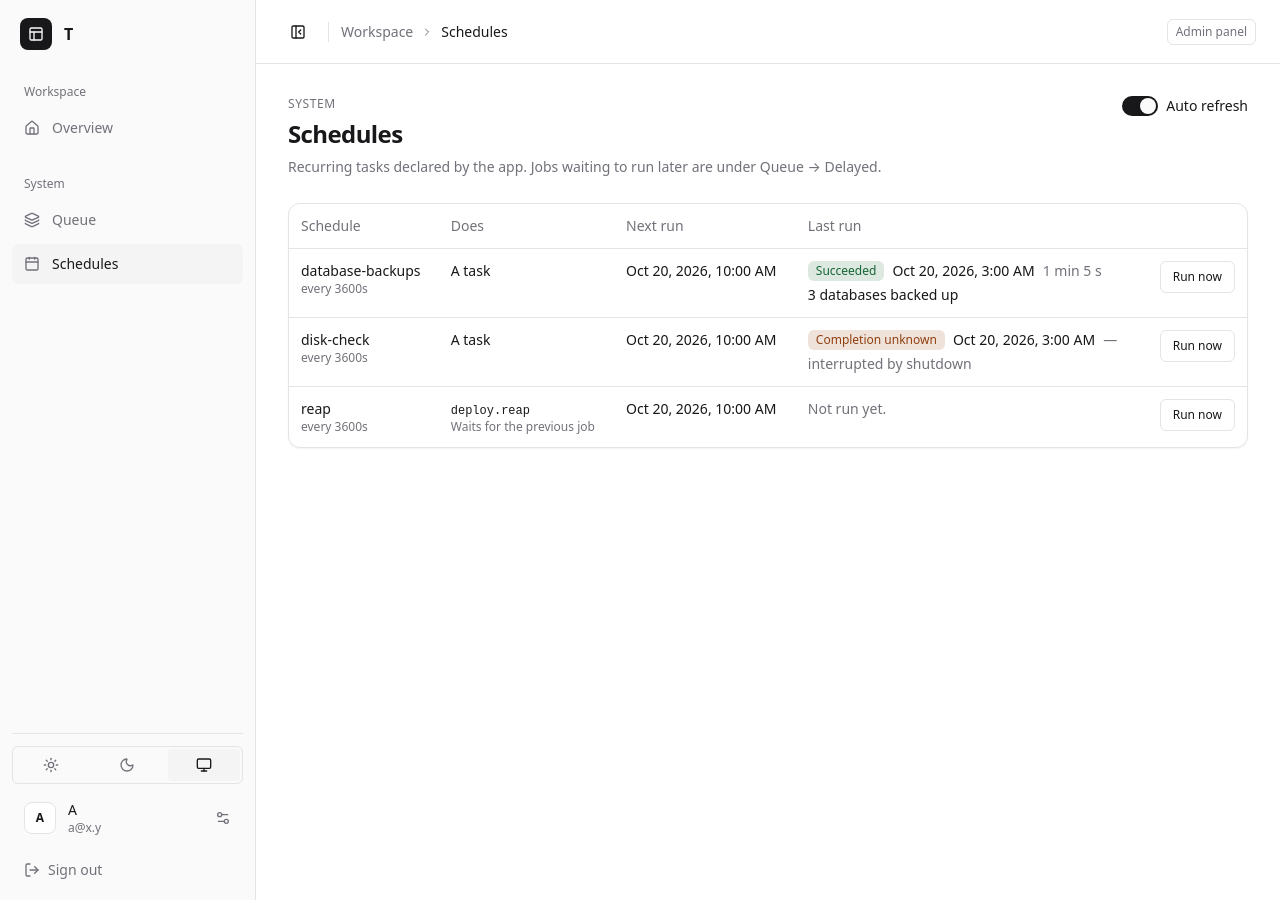
Test: Schedules › opens the runs of a schedule
Click the button "disk-check" at (335, 340), box [301,330,369,350]
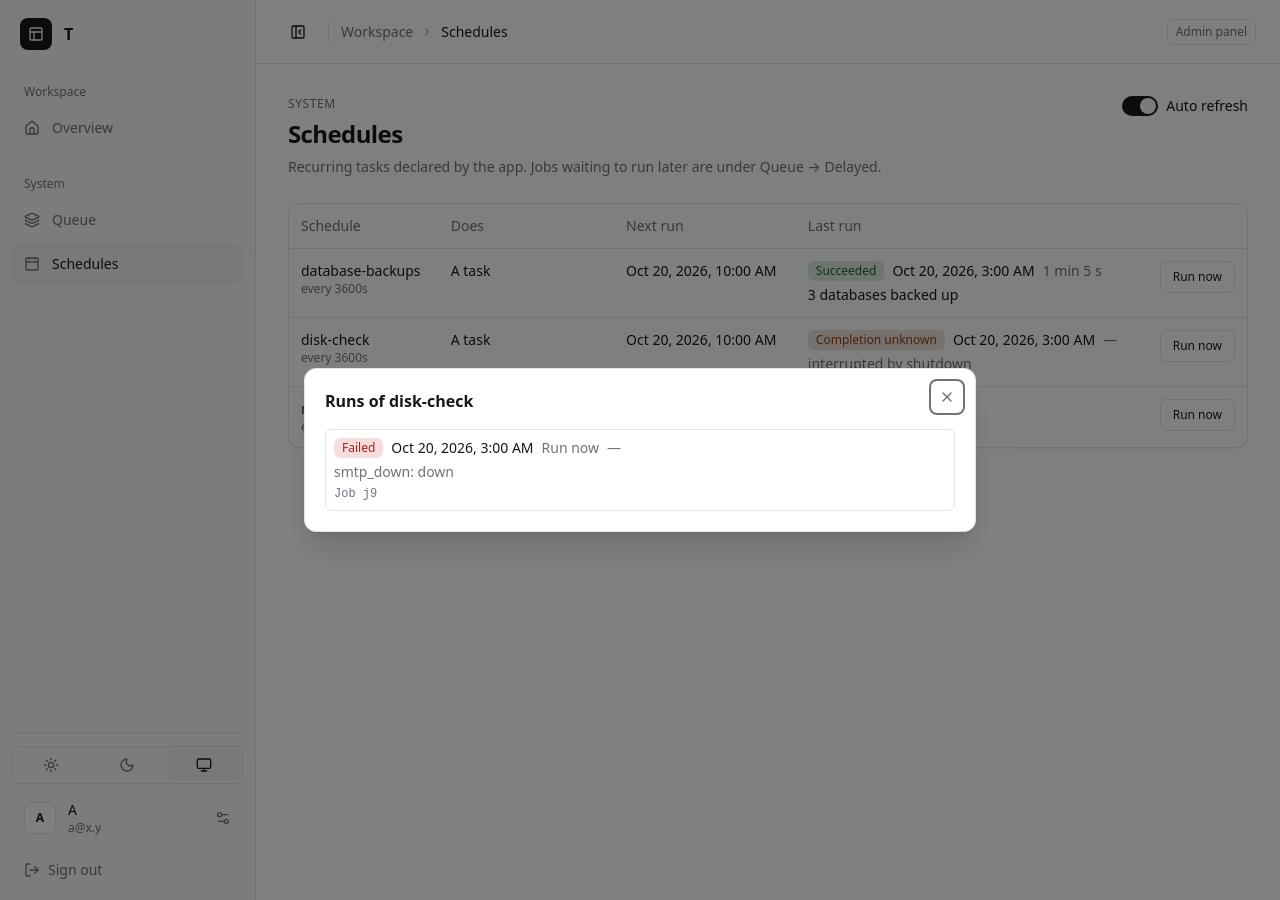
Now the text "smtp_down: down" is shown, box [334,462,454,481]
Now the text "Run now" is shown, box [542,438,599,458]
Now the text "Job j9" is shown, box [334,487,377,501]
